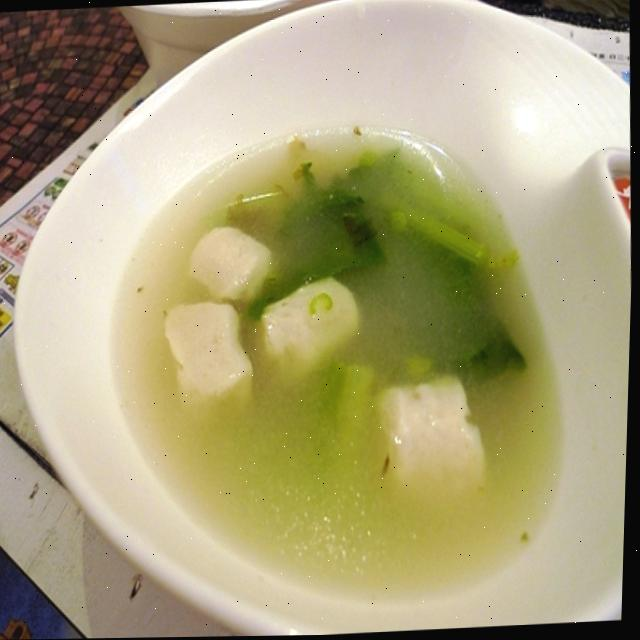熟制海鲜: (17, 26, 634, 623)
